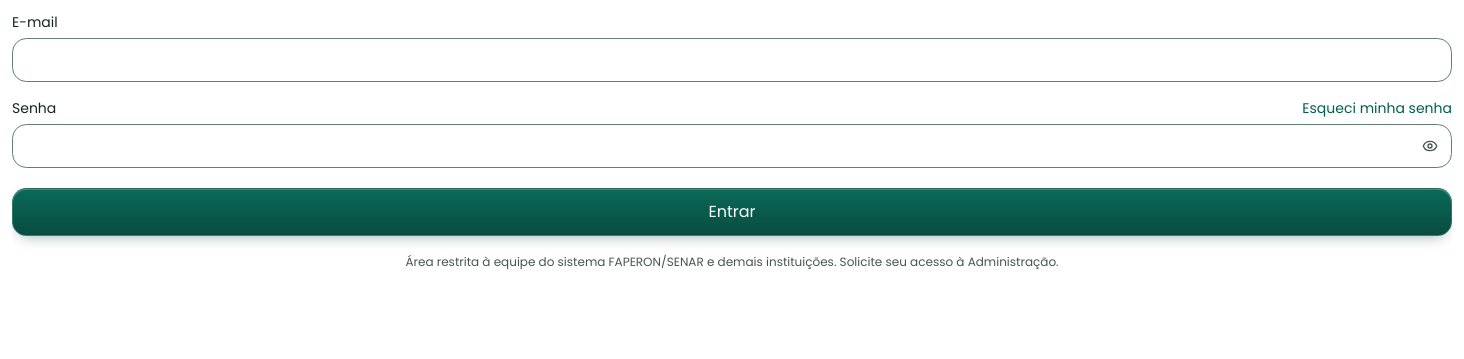
Scenario: Acessar o sistema (protótipo) › recusa credenciais erradas e não libera a área
Step 1. Type "user@faperon.br" into the field labelled "E-mail" → (732, 60), box [12,38,1452,82]
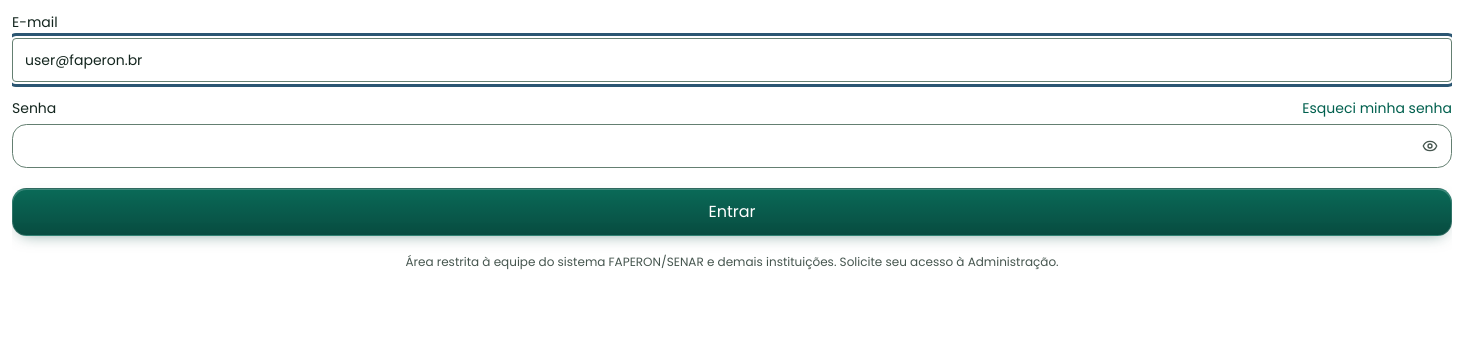
Step 2. Type "errada" into the password field labelled "Senha" → (732, 146), box [12,124,1452,168]
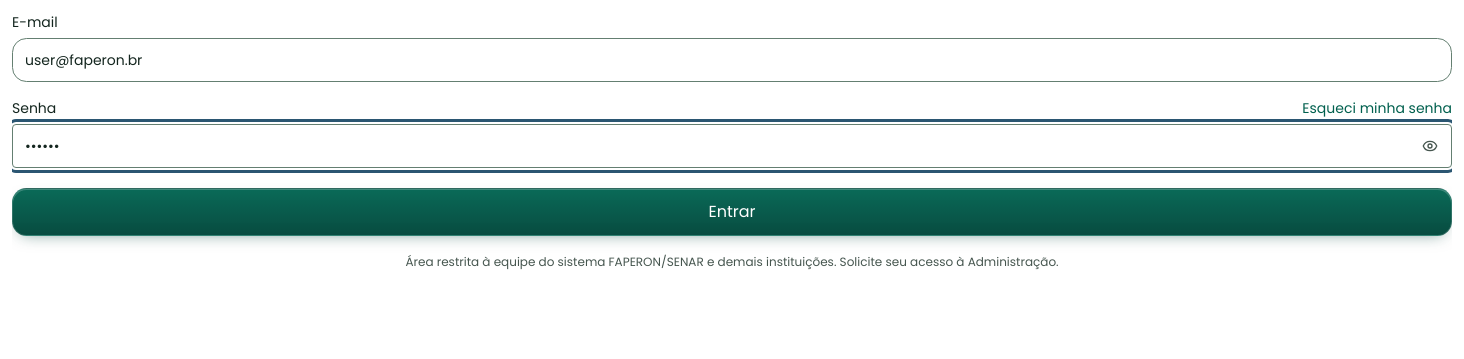
Step 3. Click the button "Entrar" → click(732, 212), box [12,188,1452,236]
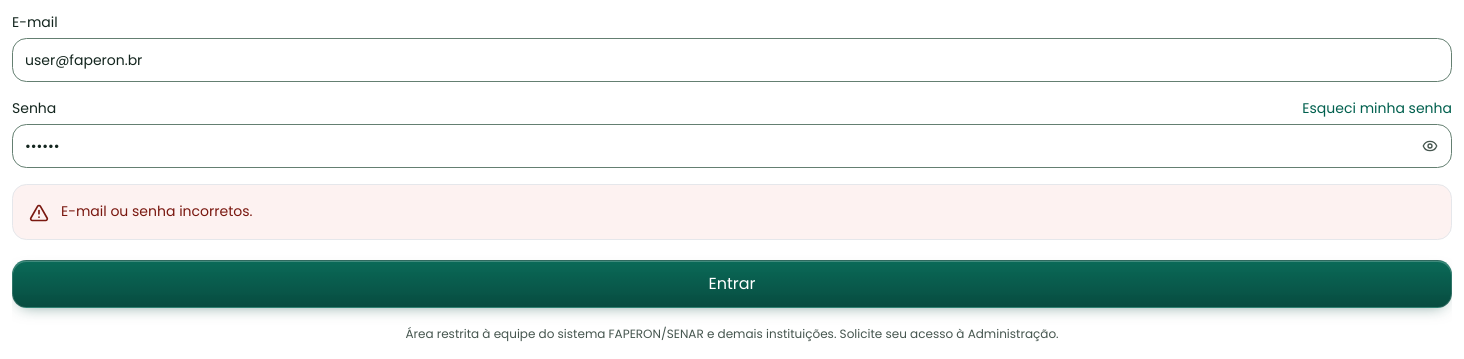
Expected: the message reads "E-mail ou senha incorretos.", [61,201,252,221]
